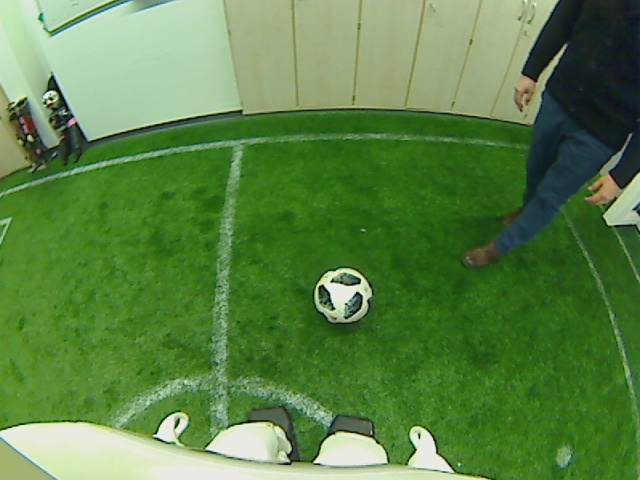ball: (312, 266, 373, 324)
